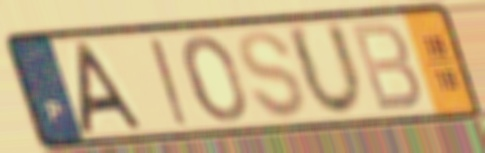A: (74, 38, 149, 138)
B: (346, 19, 425, 115)
I: (145, 35, 195, 129)
O: (181, 33, 250, 126)
S: (237, 27, 308, 122)
U: (281, 18, 368, 121)
